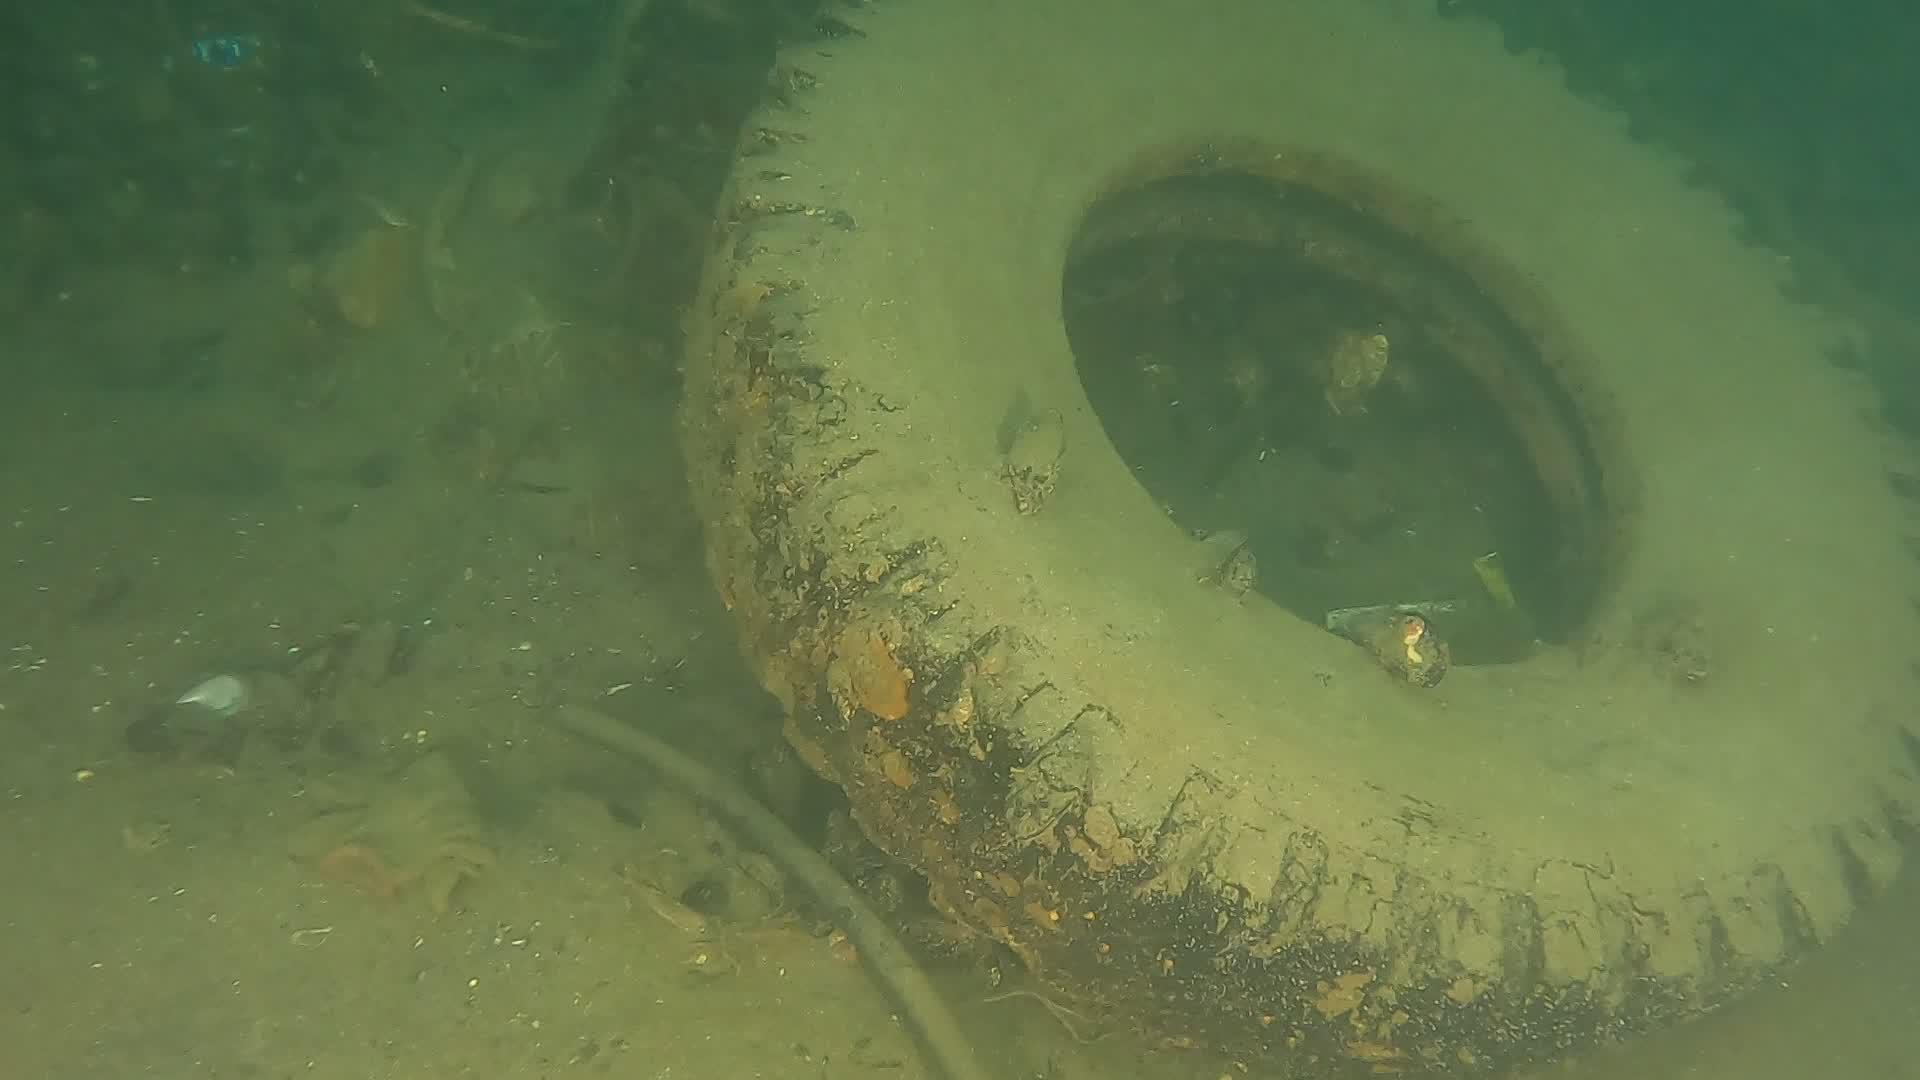tire: (676, 0, 1920, 1071)
